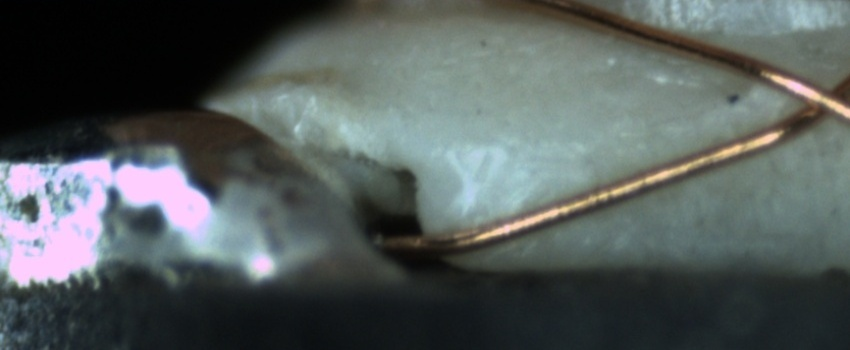CL: (772, 61, 850, 133)
DL: (446, 120, 603, 180)
